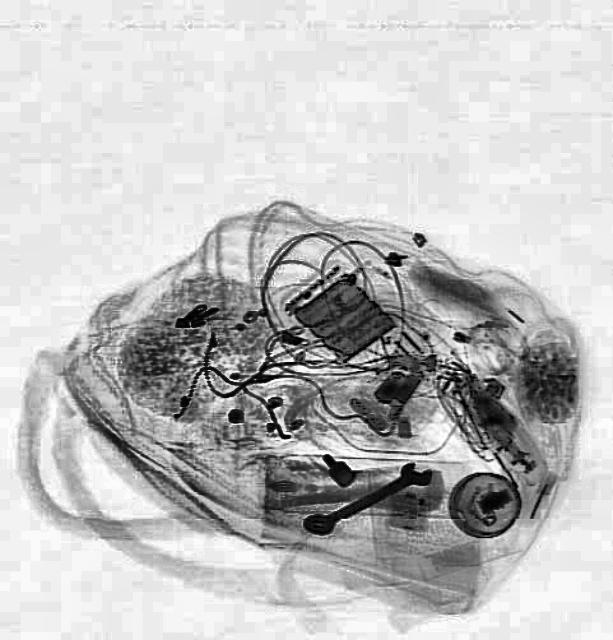Wrench: (298, 454, 436, 542)
